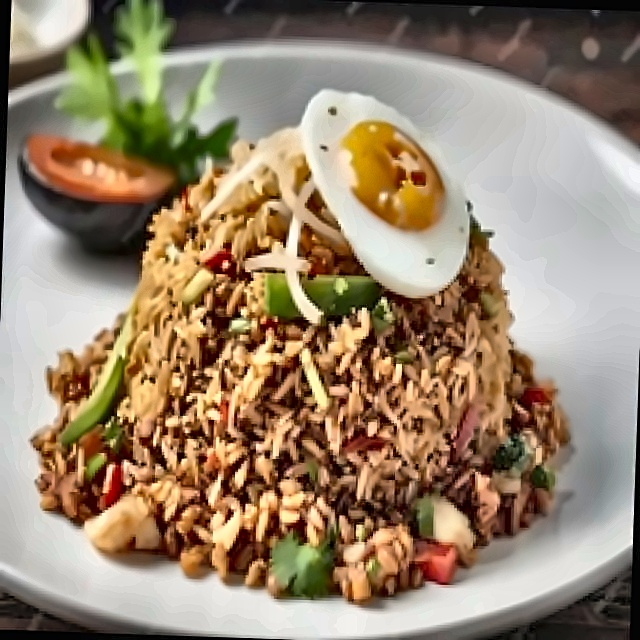egg: (286, 68, 494, 308)
rice: (32, 232, 582, 605)
